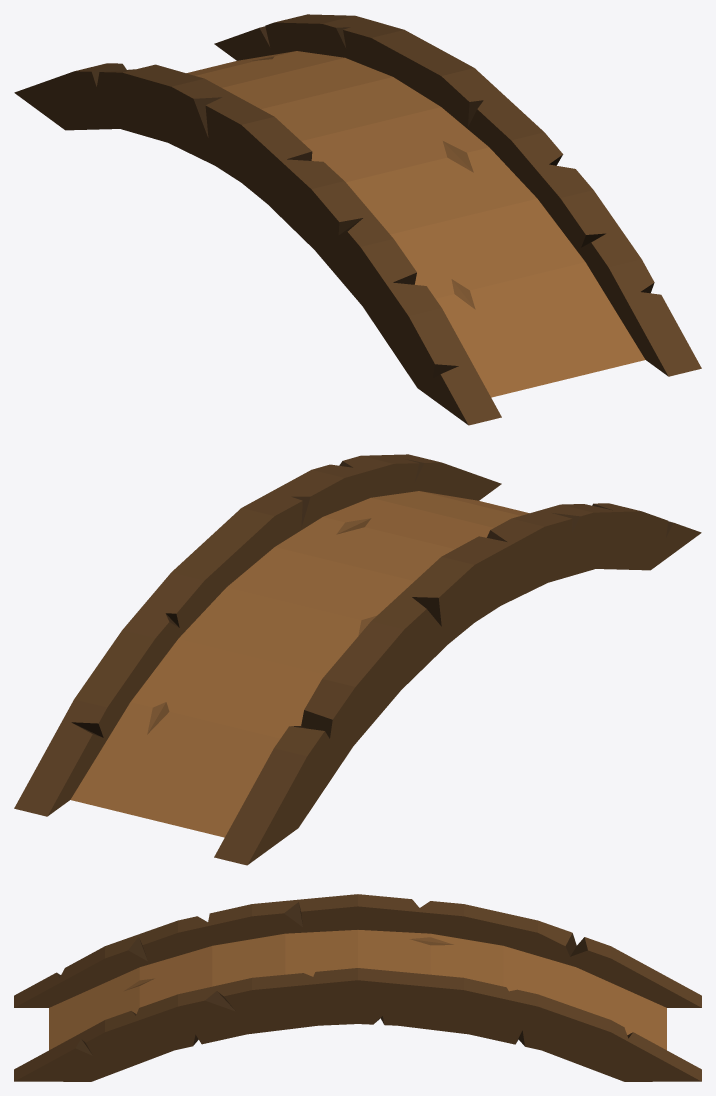
Rendered from Bridge_2_Brown.fbx.
The picture shows the model from 3 angles, top to bottom: view 1: azimuth 30°, elevation 25°; view 2: azimuth 150°, elevation 25°; view 3: azimuth 270°, elevation 25°; orthographic projection. The views are drawn at different scales.
Parts seen in each view (by area): view 1: Bridge_2_Brown_Part_1, Bridge_2_Brown_Part_3, Bridge_2_Brown_Part_2, Bridge_2_Brown_Part_4, Bridge_2_Brown_Part_5; view 2: Bridge_2_Brown_Part_1, Bridge_2_Brown_Part_3, Bridge_2_Brown_Part_2, Bridge_2_Brown_Part_4, Bridge_2_Brown_Part_5; view 3: Bridge_2_Brown_Part_2, Bridge_2_Brown_Part_1, Bridge_2_Brown_Part_3, Bridge_2_Brown_Part_4, Bridge_2_Brown_Part_5.
Part boxes in pixels (left/top/right/bottom): Bridge_2_Brown_Part_1: left=186, top=51, right=645, bottom=397; Bridge_2_Brown_Part_3: left=14, top=63, right=501, bottom=425; Bridge_2_Brown_Part_2: left=214, top=14, right=701, bottom=376; Bridge_2_Brown_Part_4: left=92, top=26, right=654, bottom=378; Bridge_2_Brown_Part_5: left=250, top=56, right=475, bottom=309; Bridge_2_Brown_Part_1: left=70, top=491, right=529, bottom=837; Bridge_2_Brown_Part_3: left=214, top=503, right=701, bottom=865; Bridge_2_Brown_Part_2: left=14, top=454, right=501, bottom=816; Bridge_2_Brown_Part_4: left=71, top=459, right=673, bottom=738; Bridge_2_Brown_Part_5: left=147, top=518, right=376, bottom=734; Bridge_2_Brown_Part_2: left=14, top=968, right=701, bottom=1081; Bridge_2_Brown_Part_1: left=49, top=930, right=666, bottom=1049; Bridge_2_Brown_Part_3: left=14, top=894, right=701, bottom=1007; Bridge_2_Brown_Part_4: left=57, top=902, right=632, bottom=1055; Bridge_2_Brown_Part_5: left=123, top=937, right=453, bottom=991.
Size of the model in its own units: 700 by 385 by 2364.
